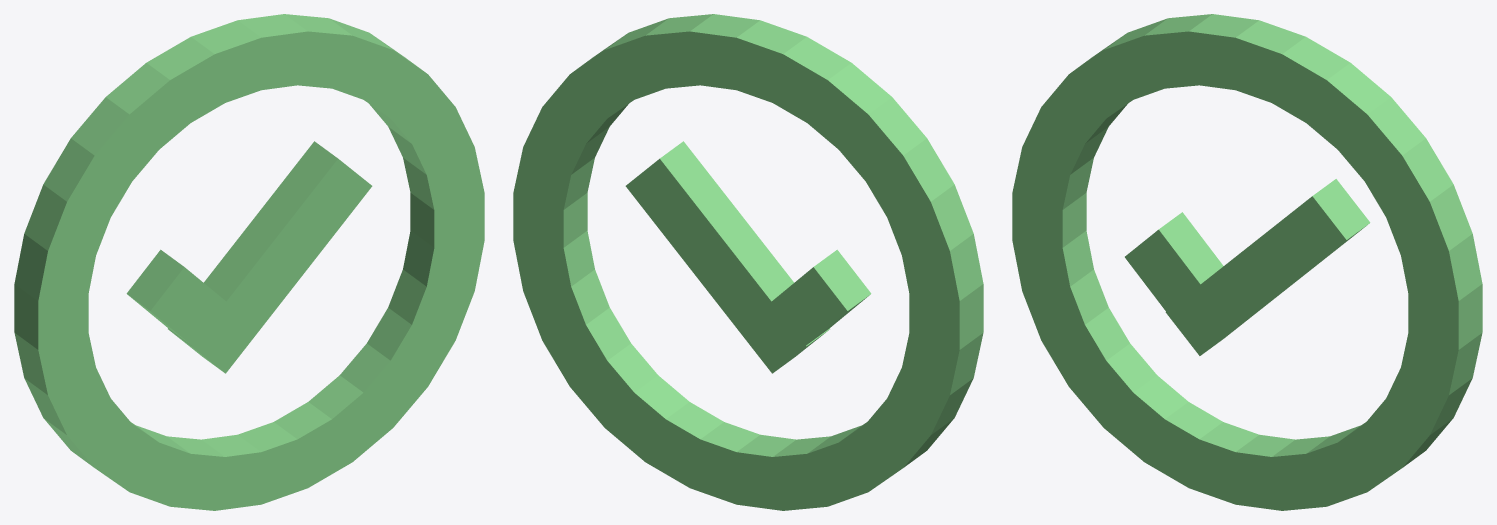
Rendered from safe.glb.
The picture shows the model from 3 angles, left to right: view 1: azimuth 30°, elevation 25°; view 2: azimuth 150°, elevation 25°; view 3: azimuth 330°, elevation 25°; orthographic projection.
Parts seen in each view (by area): view 1: obj_0; view 2: obj_0; view 3: obj_0.
Part boxes in pixels (x1=…): obj_0: x1=14, y1=14, x2=484, y2=510; obj_0: x1=513, y1=14, x2=983, y2=510; obj_0: x1=1012, y1=14, x2=1482, y2=510.
Bounding box in the file's own units: 54 × 54 × 5.
